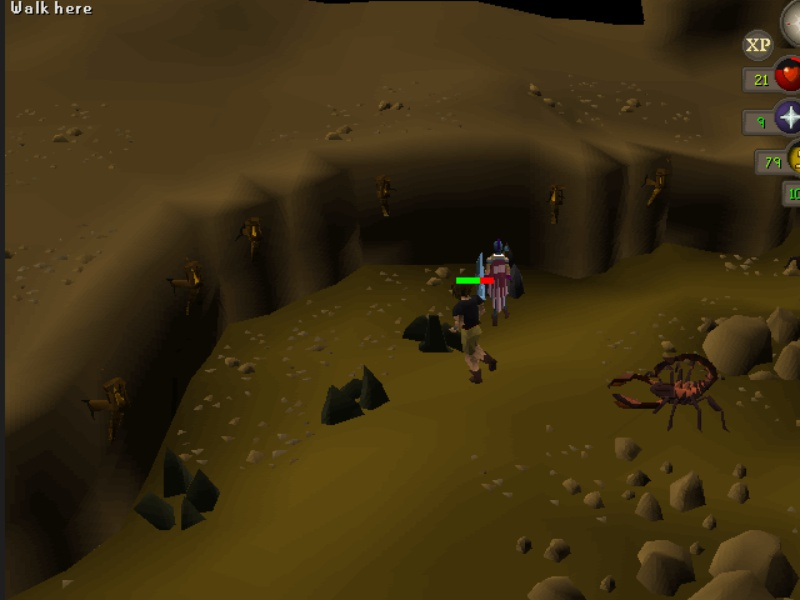coal: (129, 443, 224, 534), (316, 358, 393, 434), (399, 309, 472, 355)
